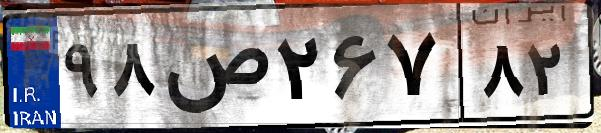2: (270, 28, 330, 110), (525, 38, 570, 115)
6: (330, 28, 385, 110)
7: (385, 28, 445, 110)
8: (475, 38, 525, 113), (110, 28, 158, 98)
9: (57, 26, 110, 100)
ص: (158, 20, 270, 120)
